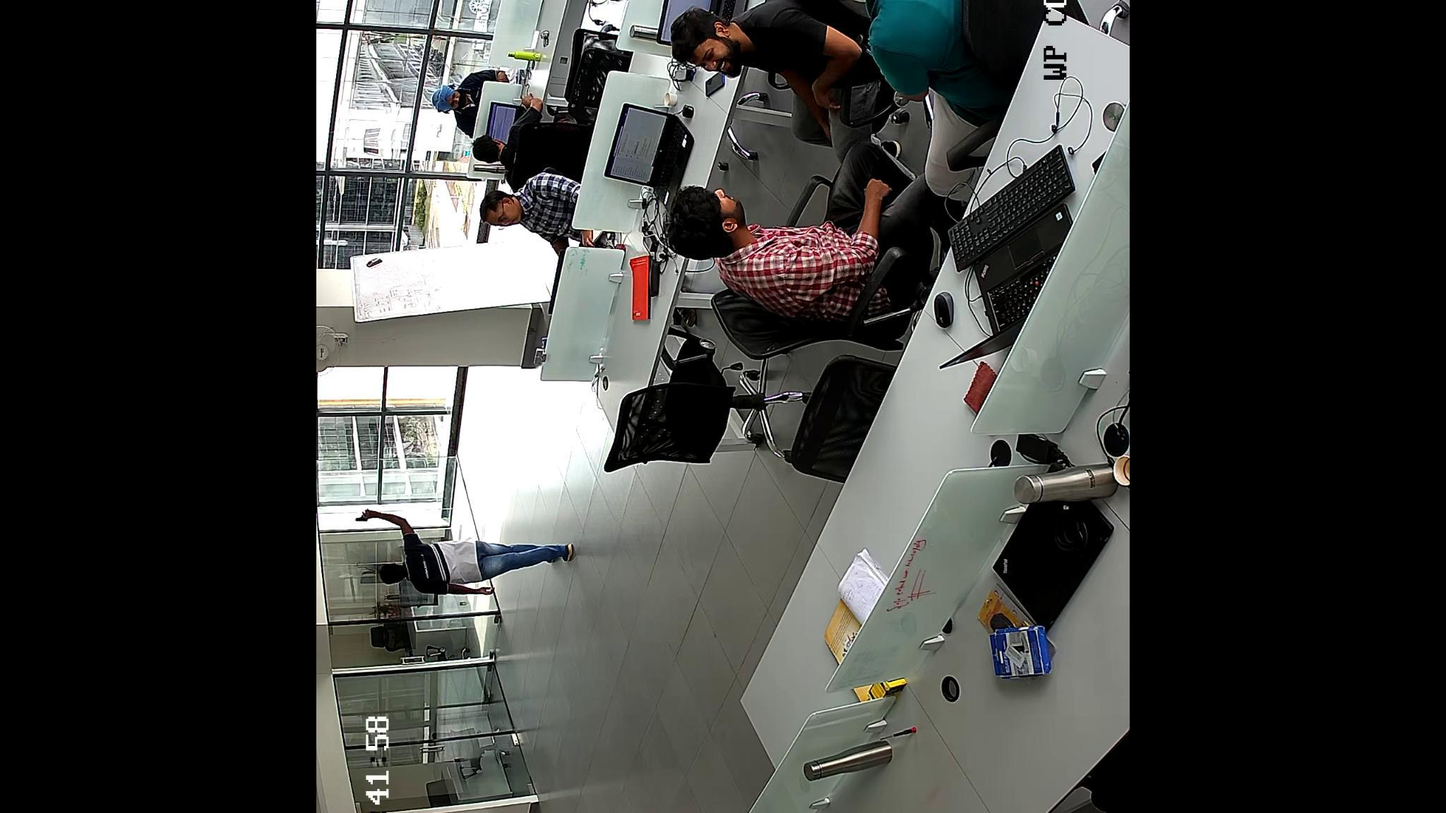gun: (356, 510, 369, 520)
